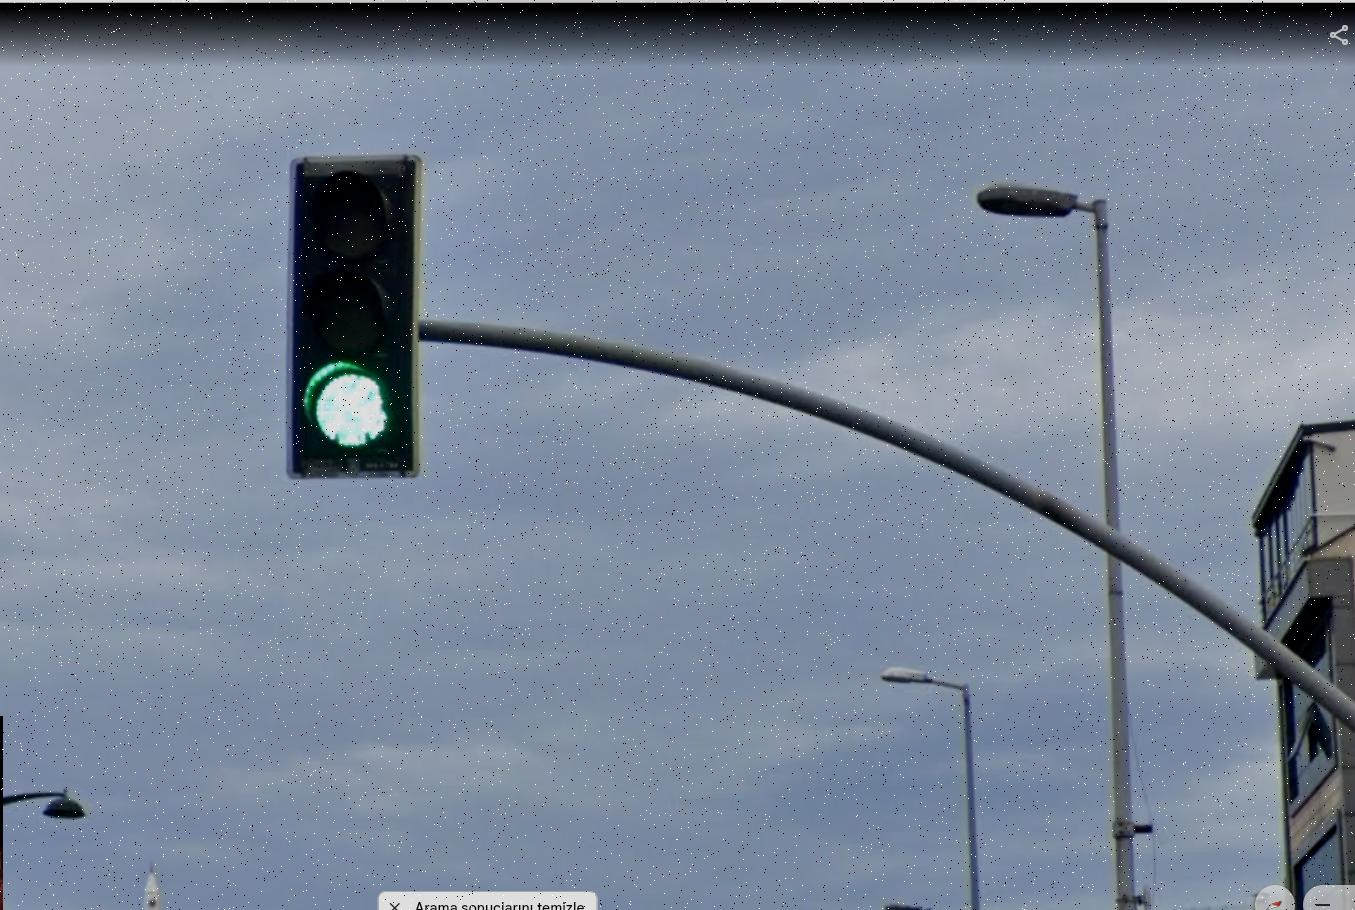greenlight: (298, 161, 405, 448)
